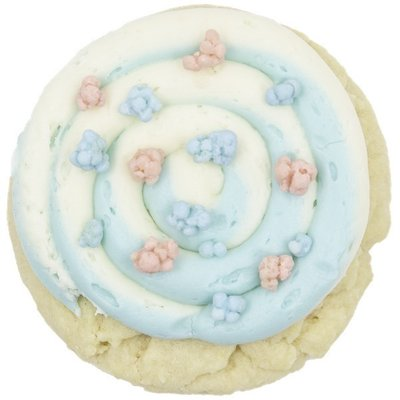sushi: (7, 4, 396, 363)
